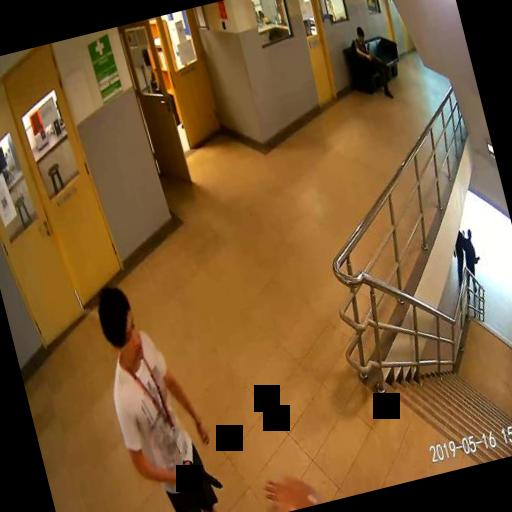Handgun: (178, 450, 220, 494)
